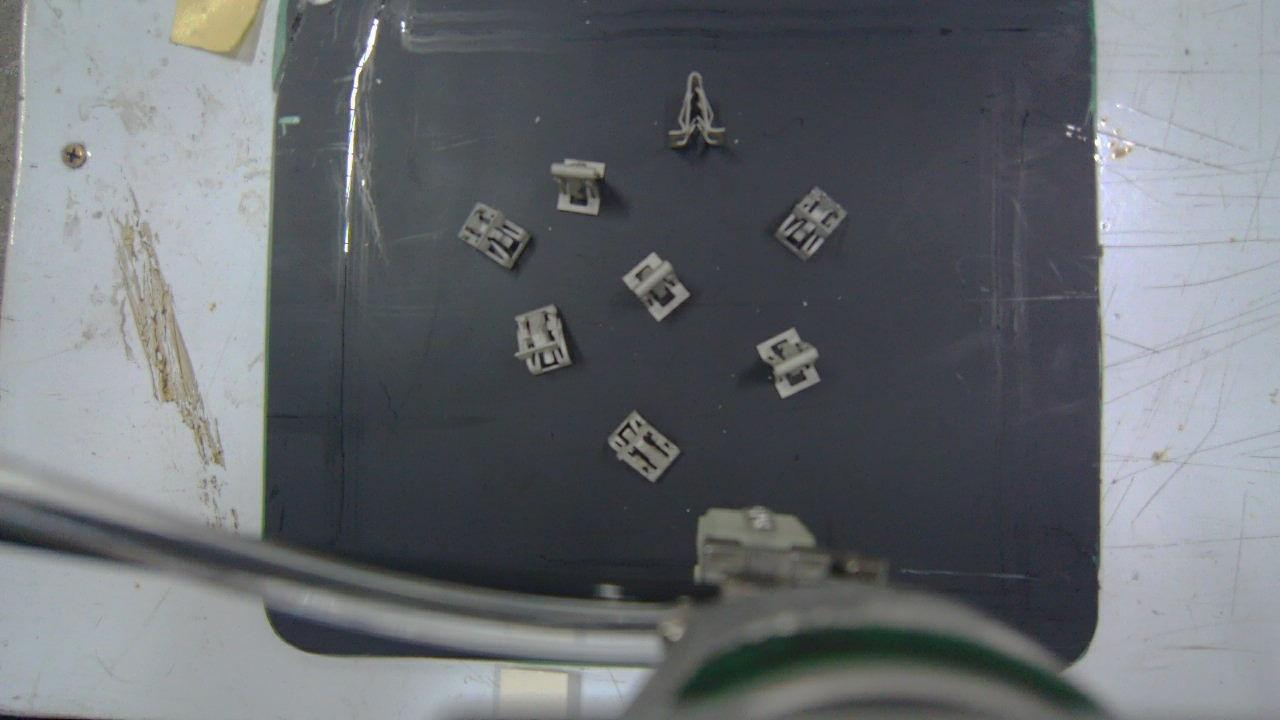ng: (458, 197, 532, 272), (777, 185, 849, 261), (608, 410, 681, 484), (513, 303, 573, 376), (671, 72, 728, 148), (551, 160, 606, 215)
pass: (621, 250, 690, 322), (758, 328, 821, 398)
